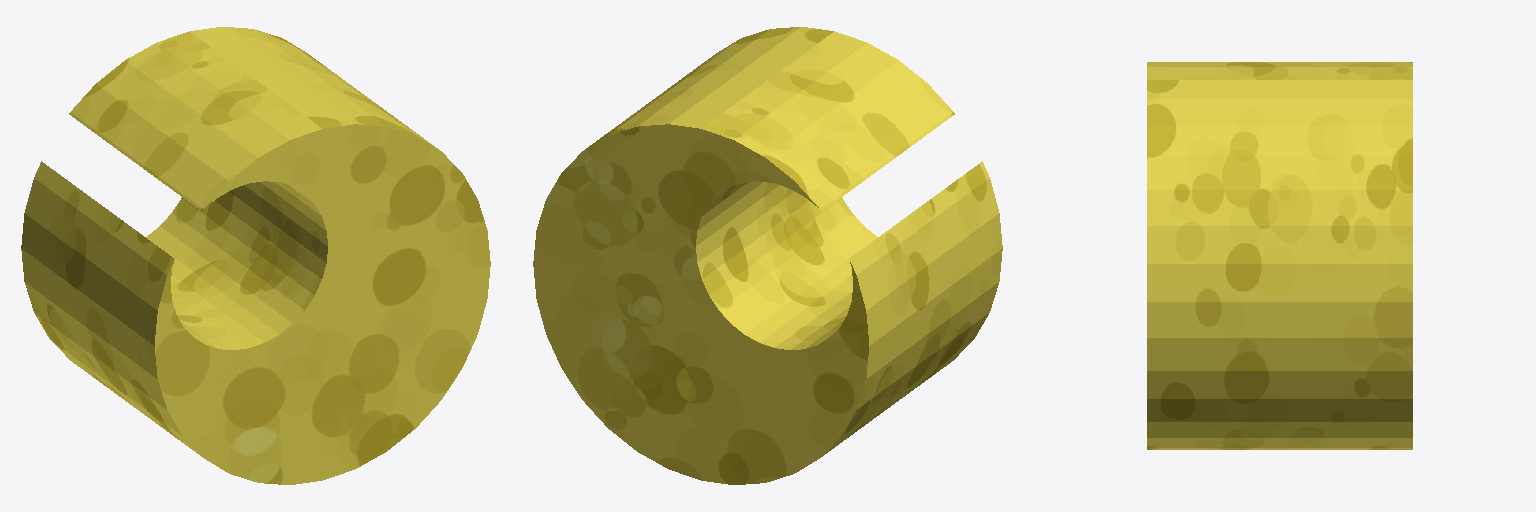
3 renders of one model, left to right at view 1: azimuth 30°, elevation 25°; view 2: azimuth 150°, elevation 25°; view 3: azimuth 270°, elevation 25°, orthographic.
Visible parts, largest first — view 1: 円柱; view 2: 円柱; view 3: 円柱.
Boxes of the visible parts, <box> form: 円柱: <box>21,27,490,484</box>; 円柱: <box>533,27,1002,484</box>; 円柱: <box>1147,62,1412,449</box>.
Size of the model in its own units: 2 by 2 by 1.37.
Materials: 1 (1 with a texture image).